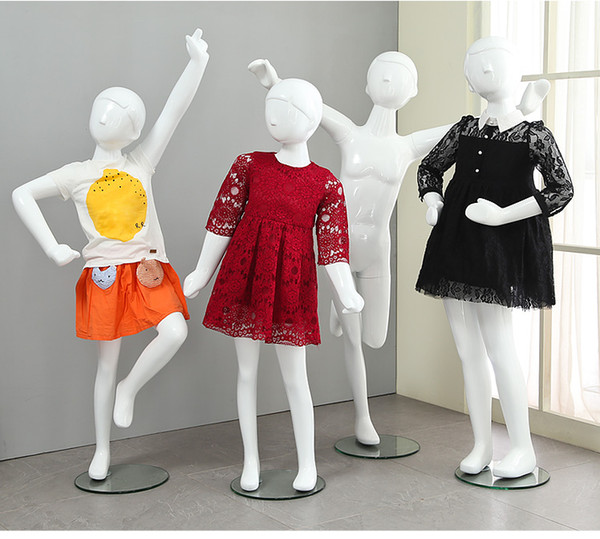person-like: (245, 43, 555, 448), (7, 24, 210, 487), (179, 73, 367, 500), (406, 31, 579, 483)
